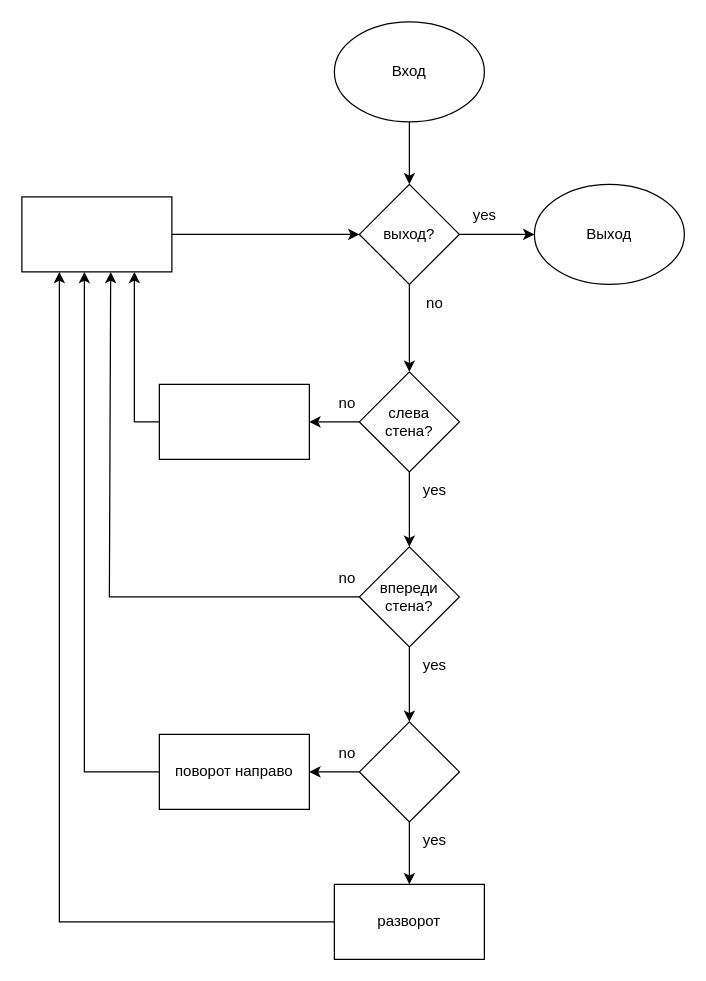
Image size: 706x981. Some labels were removed from this diagram. The shapes that lost their labels are listed below. From the top down, each one's centre as x and y in pixels, then its label:
At point 96,234: "шаг вперед".
At point 233,421: "поворот налево".
At point 408,771: "справа стена?".
